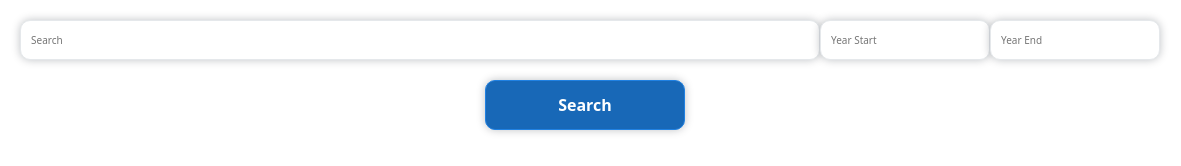
Scenario: Testing Search › submit is not ok when query is null
Click the button at (585, 105), box left=485, top=80, right=685, bottom=130
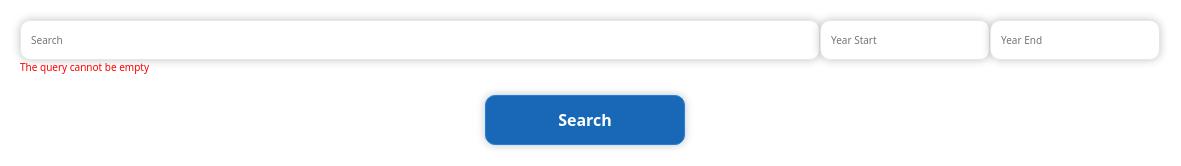
Result: the text "The query cannot be empty" is shown at left=20, top=60, right=149, bottom=74
